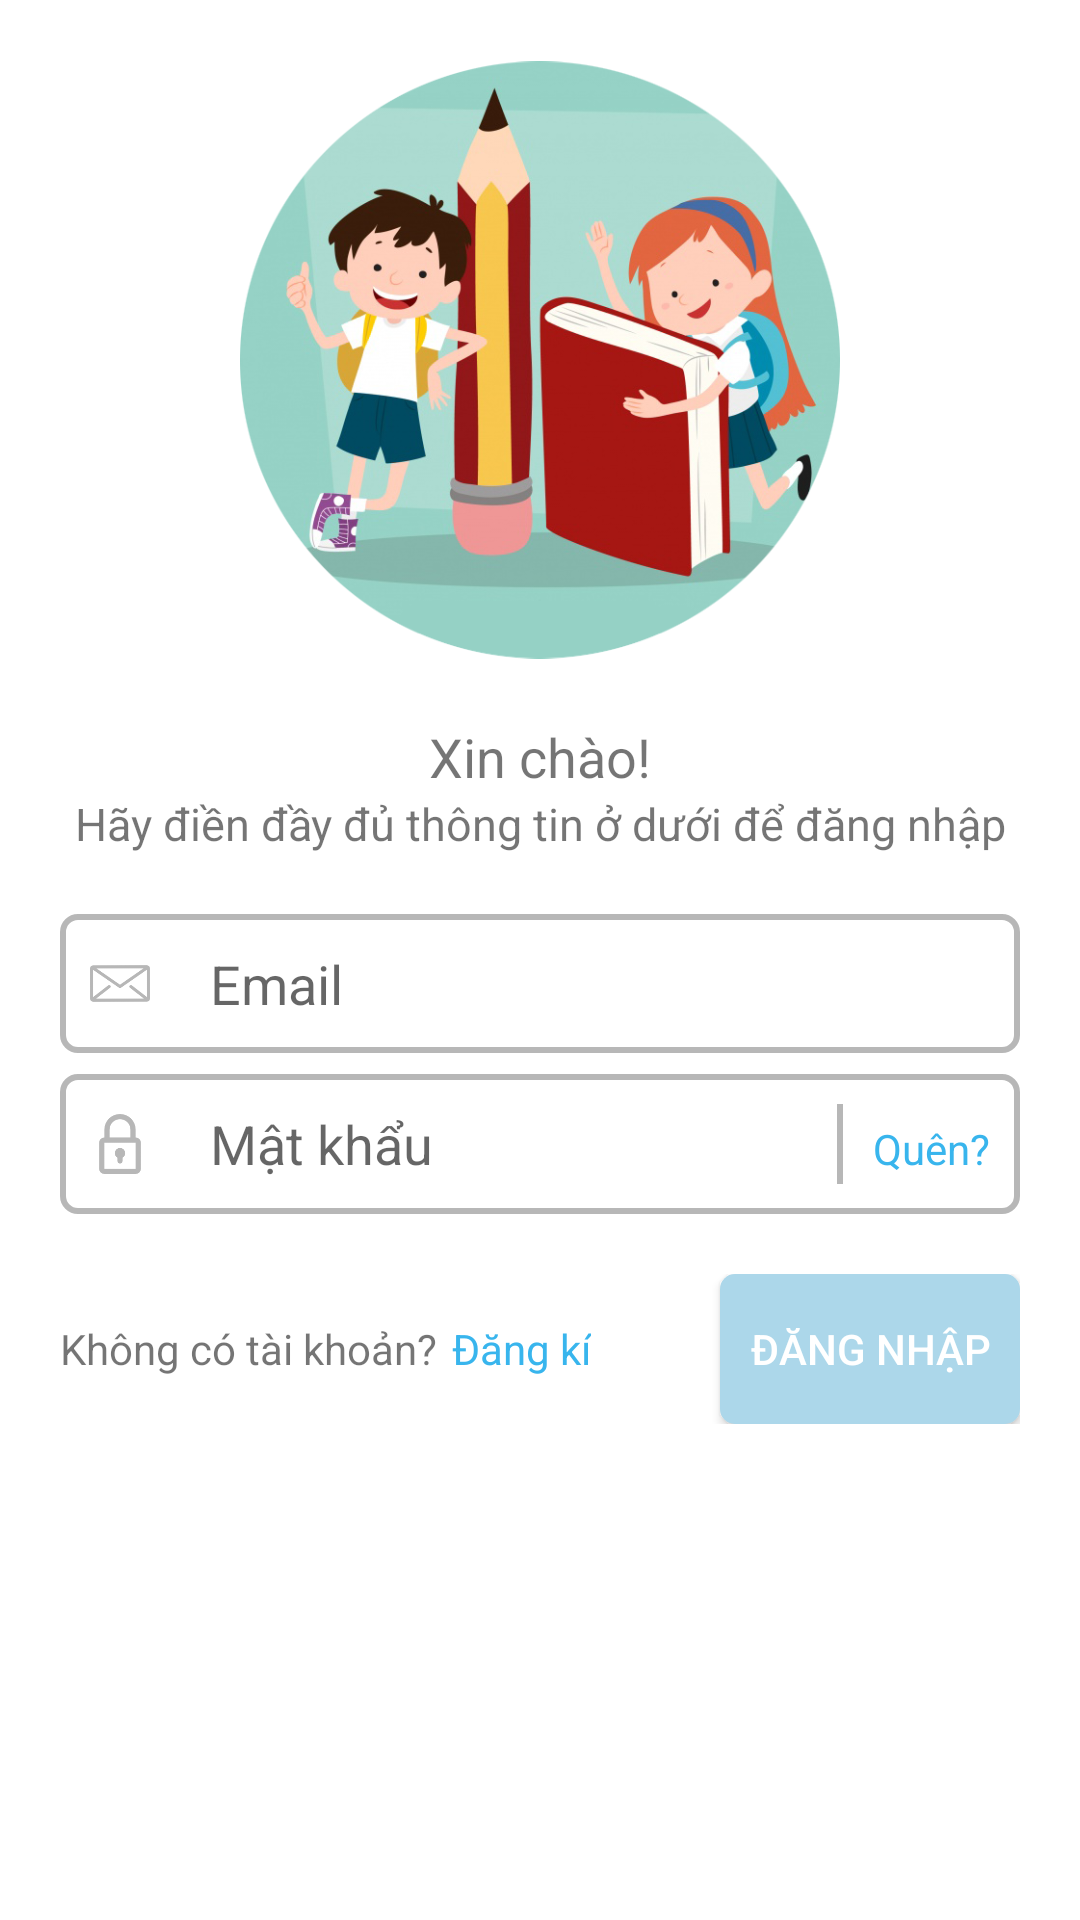

Screen size 1080w x 1920h. Icon name, then its box in pixels as rect(x1, y1, x2, y2):
envelope: rect(90, 965, 150, 1002)
lock: rect(99, 1114, 141, 1174)
